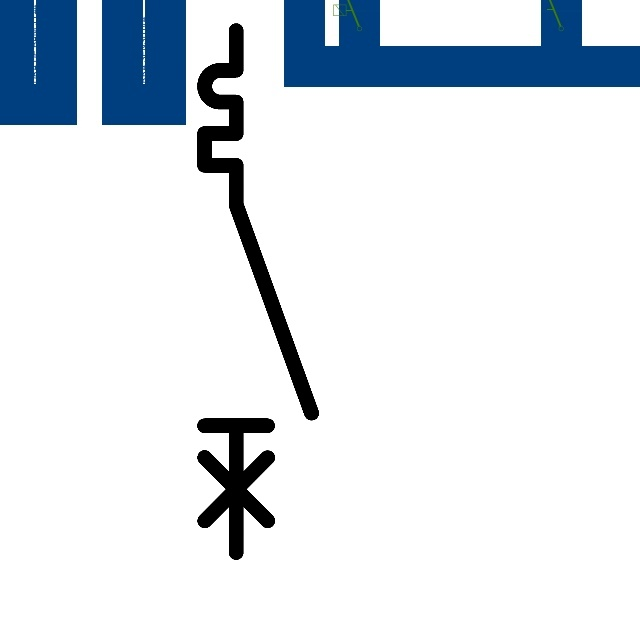interruptor_termomagnetico: (191, 17, 325, 566)
